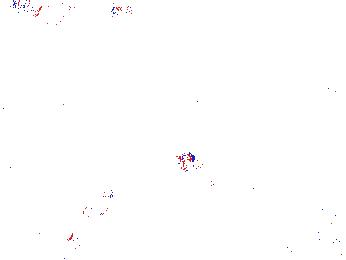X-ray fish: (4, 1, 76, 26)
glassfish: (65, 173, 124, 255), (178, 150, 225, 194)
red belly glassfish: (107, 1, 154, 18)
